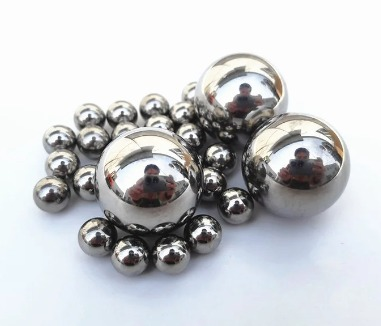ironball: (93, 126, 203, 235), (241, 111, 350, 218), (193, 52, 288, 144), (77, 216, 117, 257), (110, 234, 149, 276), (183, 213, 222, 254), (151, 234, 190, 274), (32, 175, 70, 213), (216, 186, 254, 224), (76, 124, 110, 159), (203, 142, 236, 175), (44, 148, 79, 179), (42, 124, 76, 153), (72, 163, 97, 201), (200, 166, 226, 201), (73, 102, 105, 130), (106, 99, 137, 127), (175, 122, 205, 150), (139, 92, 169, 119), (169, 100, 196, 124), (144, 114, 174, 132), (111, 121, 139, 140), (181, 80, 197, 103)
